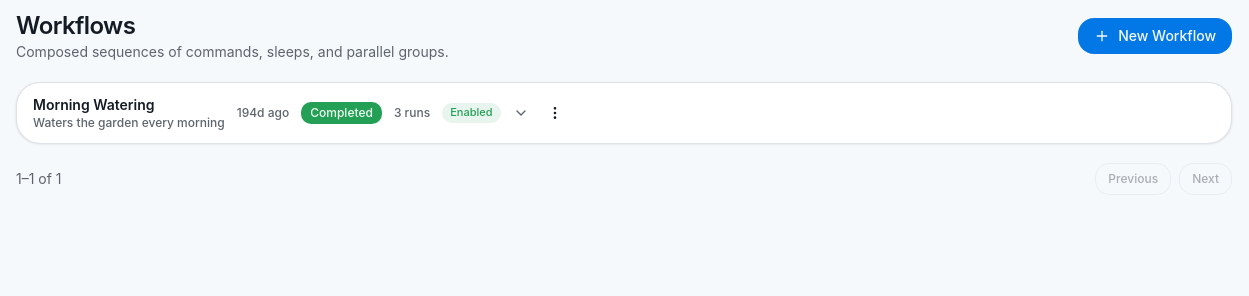
Test: WorkflowsPage › expands a row to show live execution status via useWorkflow
Click the button with test id "workflow-row" at coordinates (281, 113), box [33, 83, 528, 143]
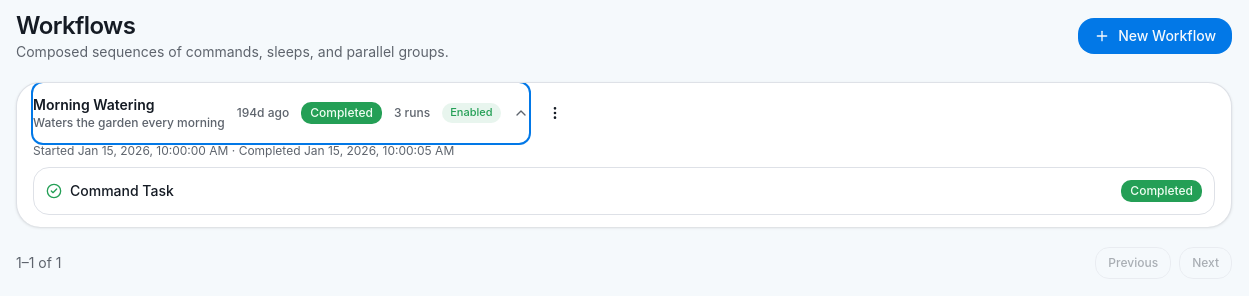
Expected: the text "Command Task" is shown, [70, 181, 174, 201]
